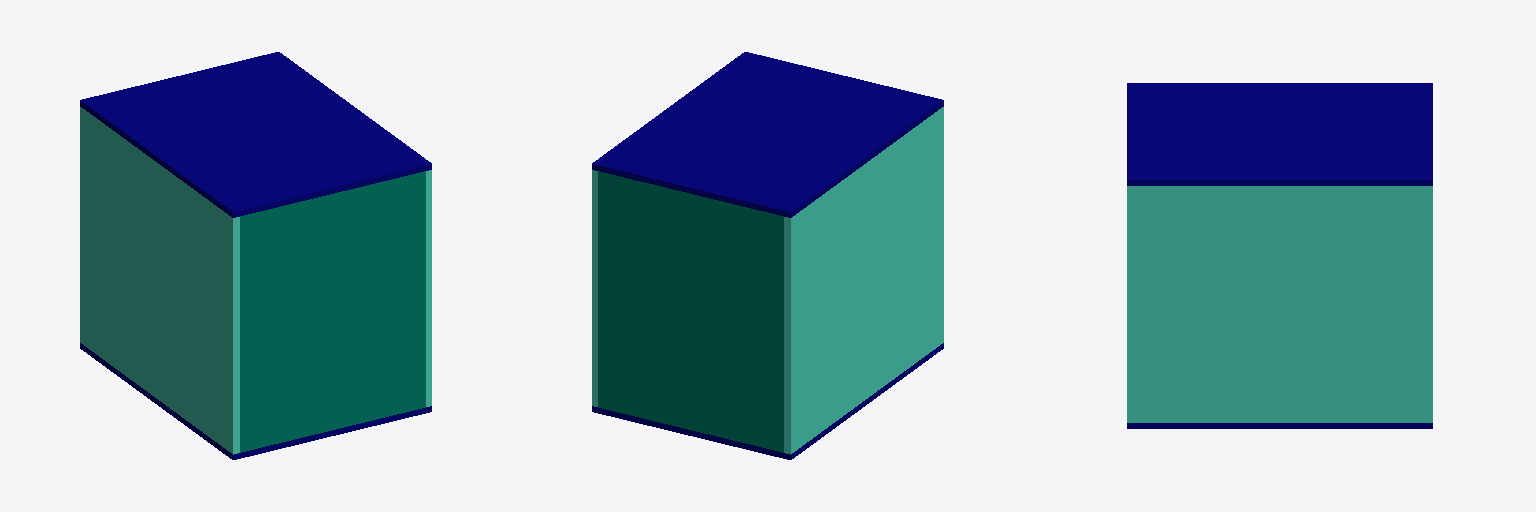
Rendered from Room.obj.
3 renders of one model, left to right at view 1: azimuth 30°, elevation 25°; view 2: azimuth 150°, elevation 25°; view 3: azimuth 270°, elevation 25°, orthographic.
Parts seen in each view (by area): view 1: backWall, leftWall, Ceiling, floor, rightWall; view 2: frontWall, leftWall, Ceiling, floor, rightWall; view 3: rightWall, Ceiling, floor.
Part boxes in pixels (bbox=[...]): backWall: bbox=[240, 171, 425, 452]; leftWall: bbox=[80, 107, 239, 454]; Ceiling: bbox=[80, 52, 431, 217]; floor: bbox=[80, 343, 431, 459]; rightWall: bbox=[426, 170, 431, 406]; frontWall: bbox=[598, 171, 783, 452]; leftWall: bbox=[784, 107, 943, 454]; Ceiling: bbox=[592, 52, 943, 217]; floor: bbox=[592, 343, 943, 459]; rightWall: bbox=[592, 170, 597, 406]; rightWall: bbox=[1127, 186, 1432, 422]; Ceiling: bbox=[1127, 83, 1432, 185]; floor: bbox=[1127, 423, 1432, 428].
Bounding box in the file's own units: 30 × 35.74 × 40.